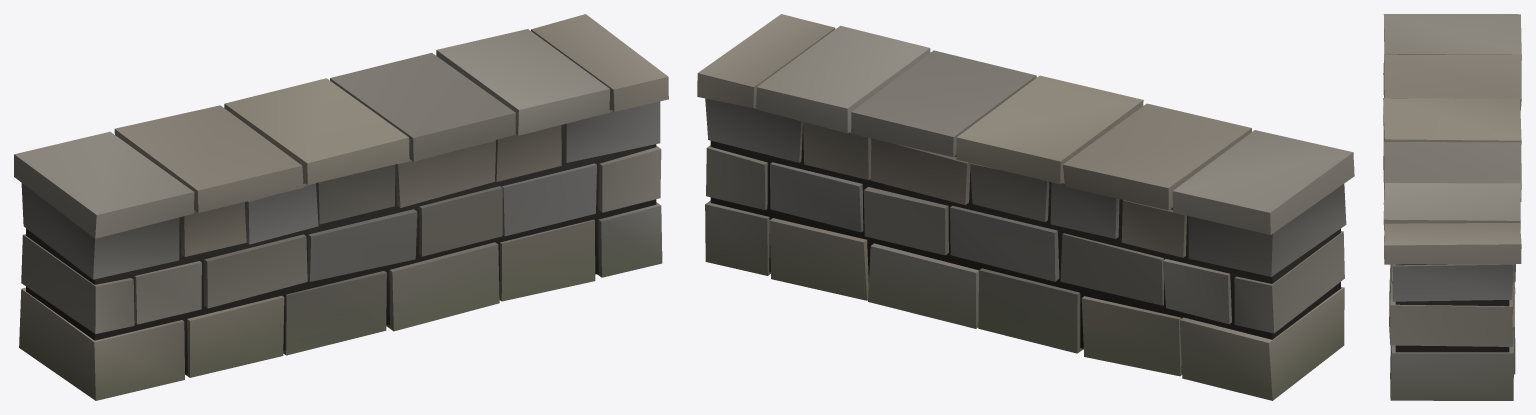
Rendered from stonewall.glb.
3 renders of one model, left to right at view 1: azimuth 30°, elevation 25°; view 2: azimuth 150°, elevation 25°; view 3: azimuth 270°, elevation 25°, orthographic. The views are drawn at different scales.
Visible parts, largest first — view 1: Coursed stone.001; view 2: Coursed stone.001; view 3: Coursed stone.001.
Boxes of the visible parts, x1,y1,x2,y2 form: Coursed stone.001: (14,14,668,400); Coursed stone.001: (697,14,1354,400); Coursed stone.001: (1383,14,1521,400).
Bounding box in the file's own units: 6.07 × 1.97 × 1.54.
